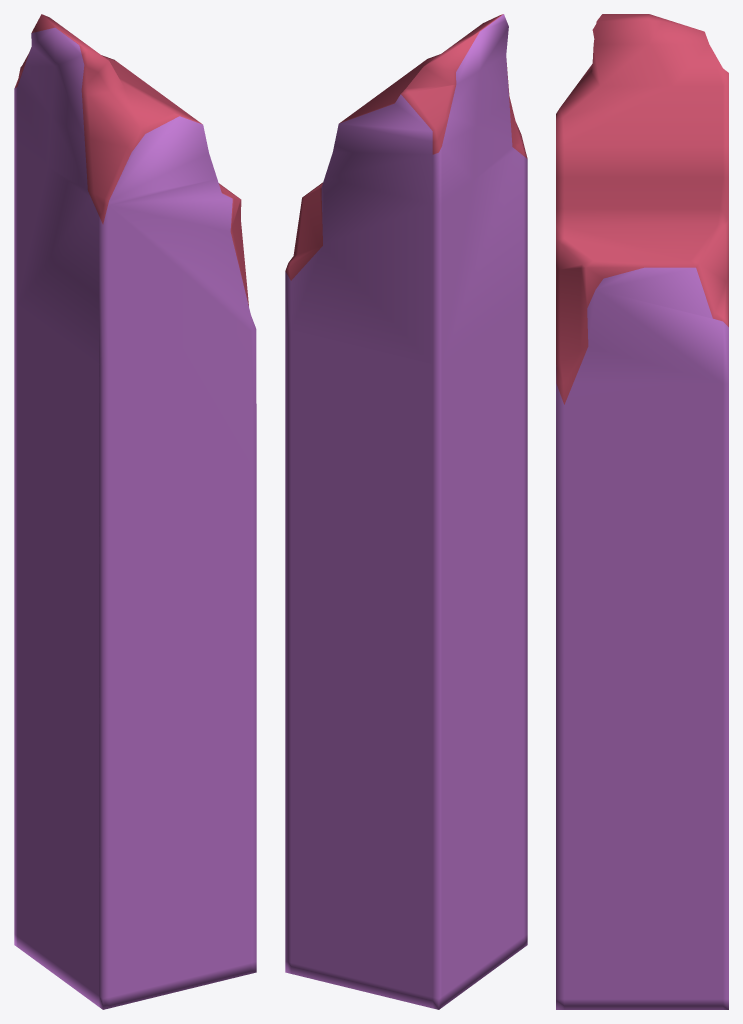
The model's file is Struct_Fence1_Column_A_DM.fbx.
3 renders of one model, left to right at view 1: azimuth 30°, elevation 25°; view 2: azimuth 150°, elevation 25°; view 3: azimuth 270°, elevation 25°, orthographic. The views are drawn at different scales.
Parts seen in each view (by area): view 1: Struct_Fence1_Column_A_DM; view 2: Struct_Fence1_Column_A_DM; view 3: Struct_Fence1_Column_A_DM.
Boxes of the visible parts, x1=… form: Struct_Fence1_Column_A_DM: x1=14, y1=14, x2=256, y2=1009; Struct_Fence1_Column_A_DM: x1=285, y1=14, x2=527, y2=1009; Struct_Fence1_Column_A_DM: x1=556, y1=14, x2=728, y2=1009.
Size of the model in its own units: 0.9 by 5.31 by 0.9.
